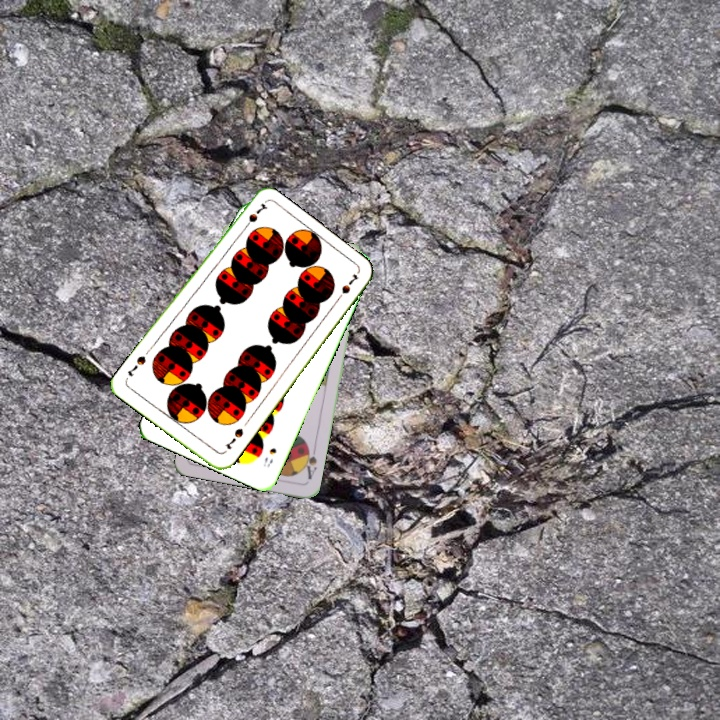S7: (238, 199, 268, 234), (221, 424, 246, 452)
S8: (259, 444, 279, 470)
SA: (299, 442, 320, 482)
